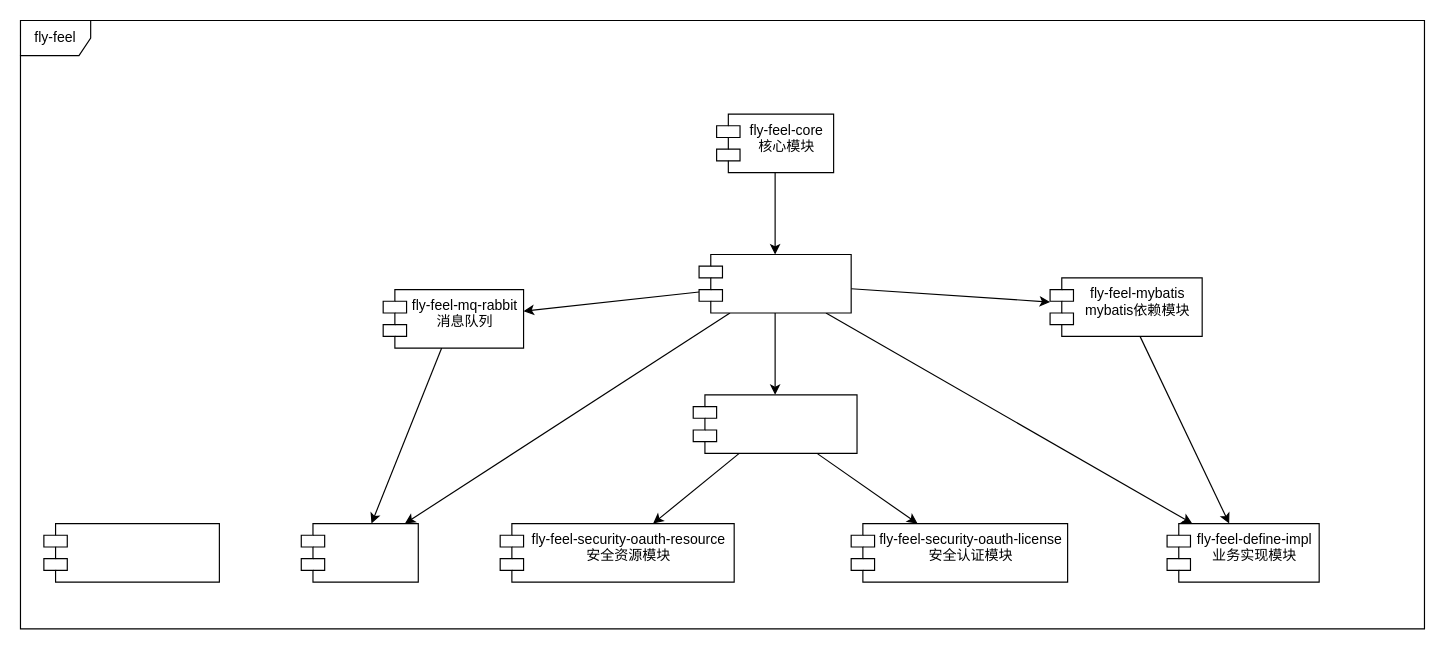
Some shapes in this 1445 by 649 pixel diagram are drawn without their labels. The box of each missing label's shape, as (x1, y1, x2, y2) in pixels:
fly-feel-define 业务接口定义模块: (698, 253, 851, 313)
fly-feel-dependencies 版本管理模块: (43, 522, 219, 582)
fly-feel-log 日志模块: (300, 522, 418, 582)
fly-feel-security-core 安全核心模块: (692, 394, 857, 453)
